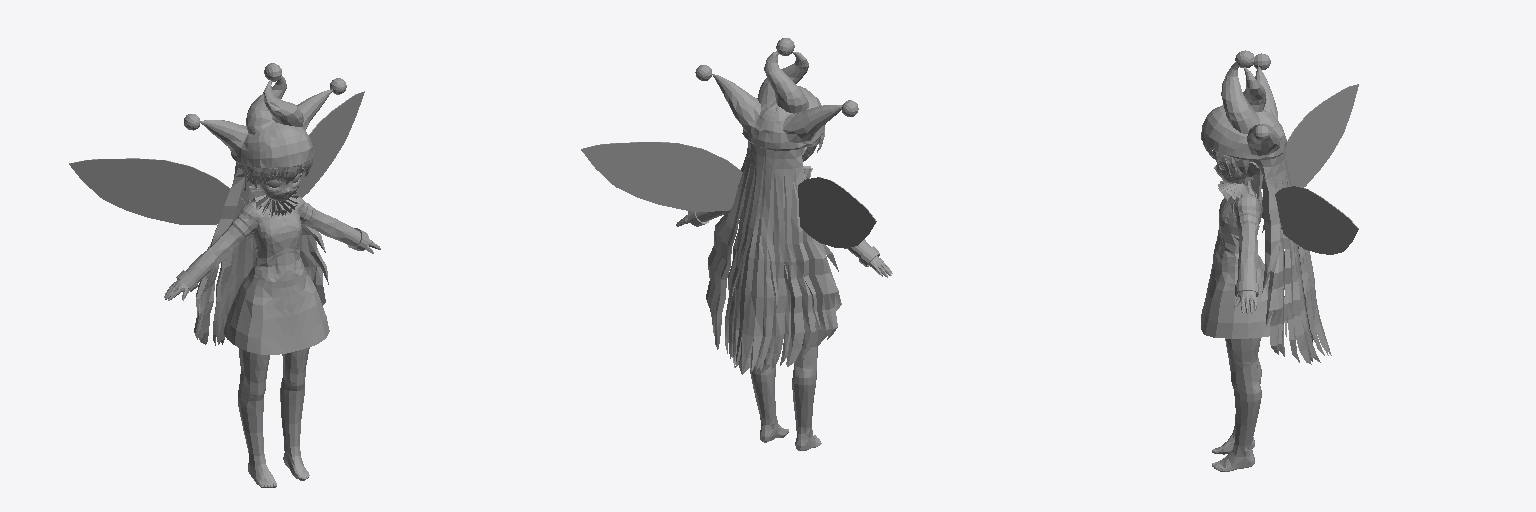
Rendered from kuranpi.obj.
3 views of the same model, side by side, from view 1: azimuth 30°, elevation 25°; view 2: azimuth 150°, elevation 25°; view 3: azimuth 270°, elevation 25° (orthographic).
Parts seen in each view (by area): view 1: Body_Clownpiece_(Long_sleeves).010; view 2: Body_Clownpiece_(Long_sleeves).010; view 3: Body_Clownpiece_(Long_sleeves).010.
Boxes of the visible parts, <box> form: Body_Clownpiece_(Long_sleeves).010: <box>69,63,380,487</box>; Body_Clownpiece_(Long_sleeves).010: <box>581,38,892,450</box>; Body_Clownpiece_(Long_sleeves).010: <box>1201,50,1358,471</box>.
Size of the model in its own units: 1.01 by 1.34 by 0.4692.